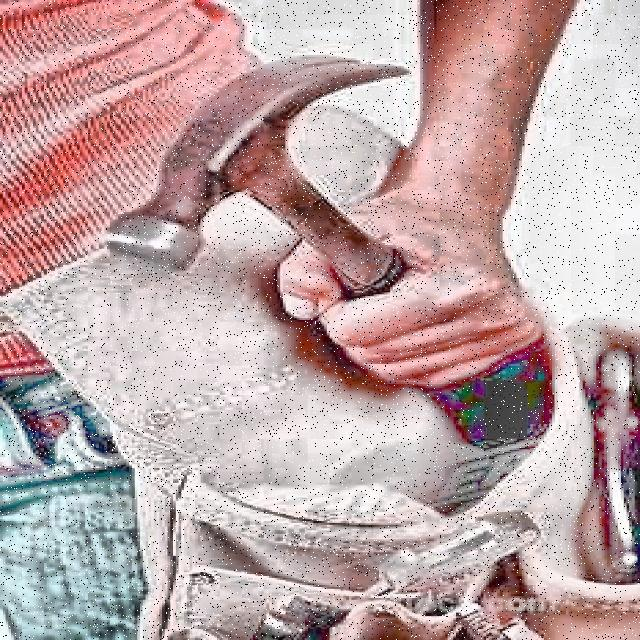hammer: (102, 47, 456, 361)
